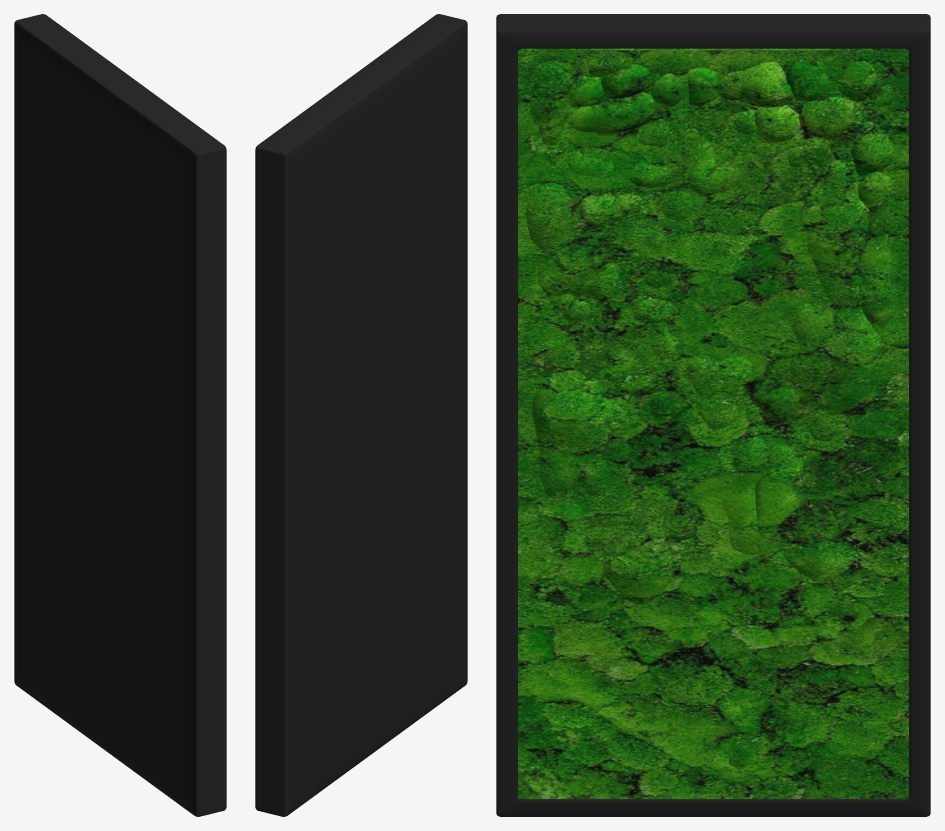
The model's file is Moosbild_Hugelmoos_600x300mm_black.fbx.
3 views of the same model, side by side, from view 1: azimuth 30°, elevation 25°; view 2: azimuth 150°, elevation 25°; view 3: azimuth 270°, elevation 25° (orthographic). The views are drawn at different scales.
Visible parts, largest first — view 1: edge; view 2: edge; view 3: moss_low, moss9, edge.
Part boxes in pixels (<box>): edge: <box>14,14,226,816</box>; edge: <box>255,14,467,816</box>; moss_low: <box>518,50,908,798</box>; moss9: <box>519,48,907,769</box>; edge: <box>496,14,930,816</box>.
Bounding box in the file's own units: 4.11 × 60 × 30.
Materials: 2 (1 with a texture image).
